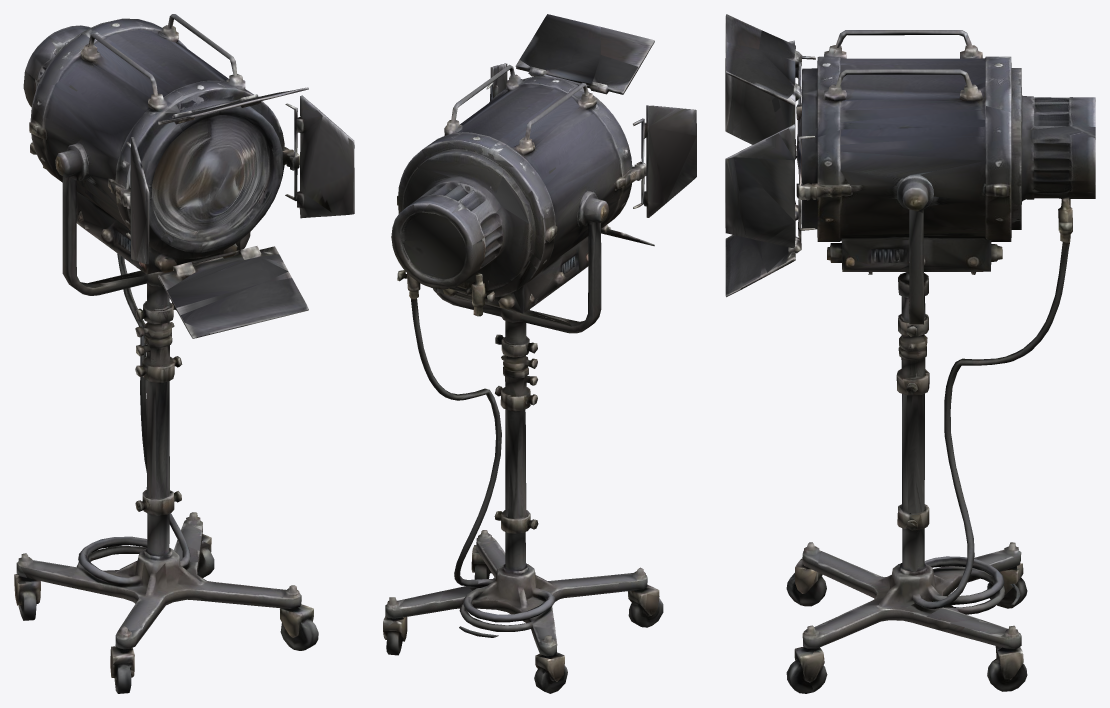
The model's file is int-arc-lamp.glb.
3 renders of one model, left to right at view 1: azimuth 30°, elevation 25°; view 2: azimuth 150°, elevation 25°; view 3: azimuth 270°, elevation 25°, orthographic. The views are drawn at different scales.
Visible parts, largest first — view 1: model; view 2: model; view 3: model.
Boxes of the visible parts, x1=… form: model: x1=14, y1=14, x2=354, y2=693; model: x1=383, y1=14, x2=696, y2=693; model: x1=725, y1=14, x2=1095, y2=693.
Size of the model in its own units: 0.7988 by 2.2 by 1.22.
Materials: 1 (1 with a texture image).
